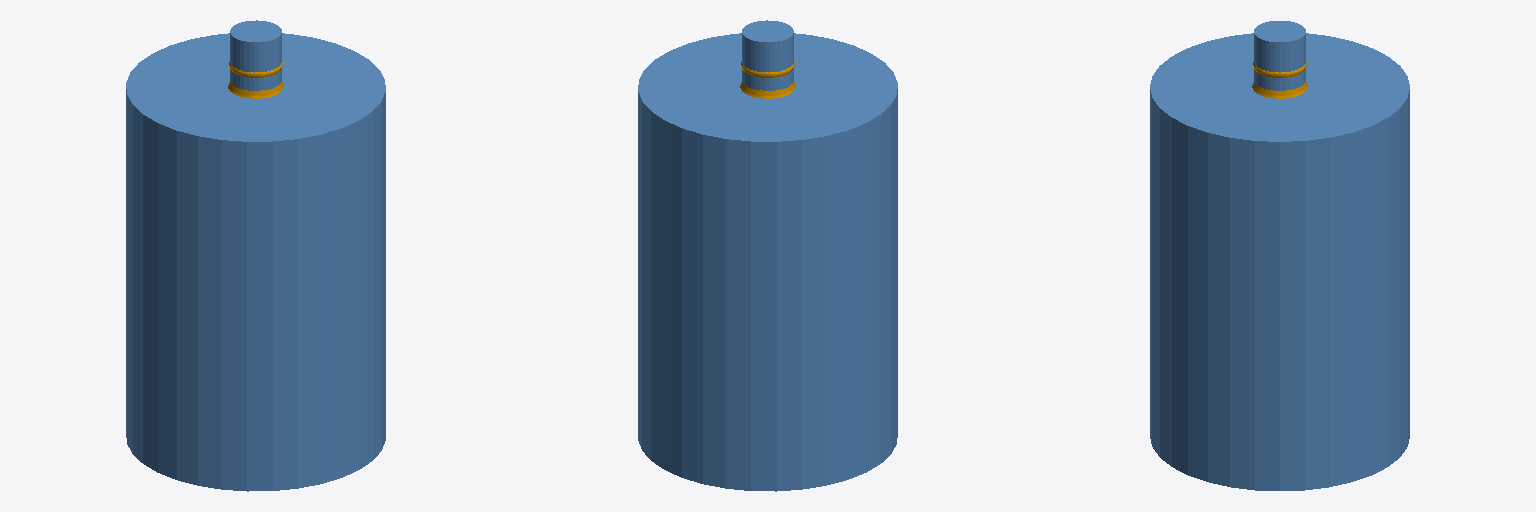
URDF robot description (jug_5_gallon):
<?xml version="1.0"?>
<!-- This is a model of an empty 5-gallon water jug. -->
<robot name="jug_5_gallon">
  <!-- The moment of inertia is for a solid cylinder  -->
  <!-- with uniform density. -->
  <link name="jug">
    <inertial>
      <mass value="0.8"/>
      <origin rpy="0 0 0" xyz="0 0 -0.03"/>
      <inertia ixx="0.014" ixy="0" ixz="0" iyy="0.014" iyz="0" izz="0.006"/>
    </inertial>

    <visual name="jug_visual">
      <geometry>
        <mesh filename="meshes/jug_water_5_gallon.obj"/>
      </geometry>
    </visual>

    <visual name="jug_contact_visual">
      <origin rpy="0 0 0" xyz="0 0 -0.03"/>
      <geometry>
        <cylinder radius="0.135" length="0.4"/>
      </geometry>
      <material>
        <color rgba="0.4 0.6 0.8 0.9"/>
      </material>
    </visual>
    <collision name="jug_collision">
      <origin rpy="0 0 0" xyz="0 0 -0.03"/>
      <geometry>
        <cylinder radius="0.135" length="0.4"/>
      </geometry>
    </collision>

    <visual name="jug_lid_contact_visual">
      <origin rpy="0 0 0" xyz="0 0 0.201"/>
      <geometry>
        <cylinder radius="0.027" length="0.065"/>
      </geometry>
      <material>
        <color rgba="0.4 0.6 0.8 0.9"/>
      </material>
    </visual>
    <collision name="jug_lid_collision">
      <origin rpy="0 0 0" xyz="0 0 0.201"/>
      <geometry>
        <cylinder radius="0.027" length="0.065"/>
      </geometry>
    </collision>

  </link>
</robot>

--- What the picture shows (computed from the rendered views, not written in the file) ---
3 views of the same robot in one strip: view 1: azimuth 30°, elevation 25°; view 2: azimuth 150°, elevation 25°; view 3: azimuth 270°, elevation 25° (orthographic).
Model jug_5_gallon with 1 links and 0 joints (none), rooted at jug, posed all joints at 0.
Links seen in each view (by area): view 1: jug; view 2: jug; view 3: jug.
Link boxes in pixels (x1=…): jug: x1=126, y1=20, x2=385, y2=491; jug: x1=638, y1=20, x2=897, y2=491; jug: x1=1150, y1=21, x2=1409, y2=490.
Bounding box of the posed robot: 0.27 × 0.27 × 0.4659 m (x, y, z).
1 mesh visuals loaded from 1 distinct referenced files (1 OBJ).
